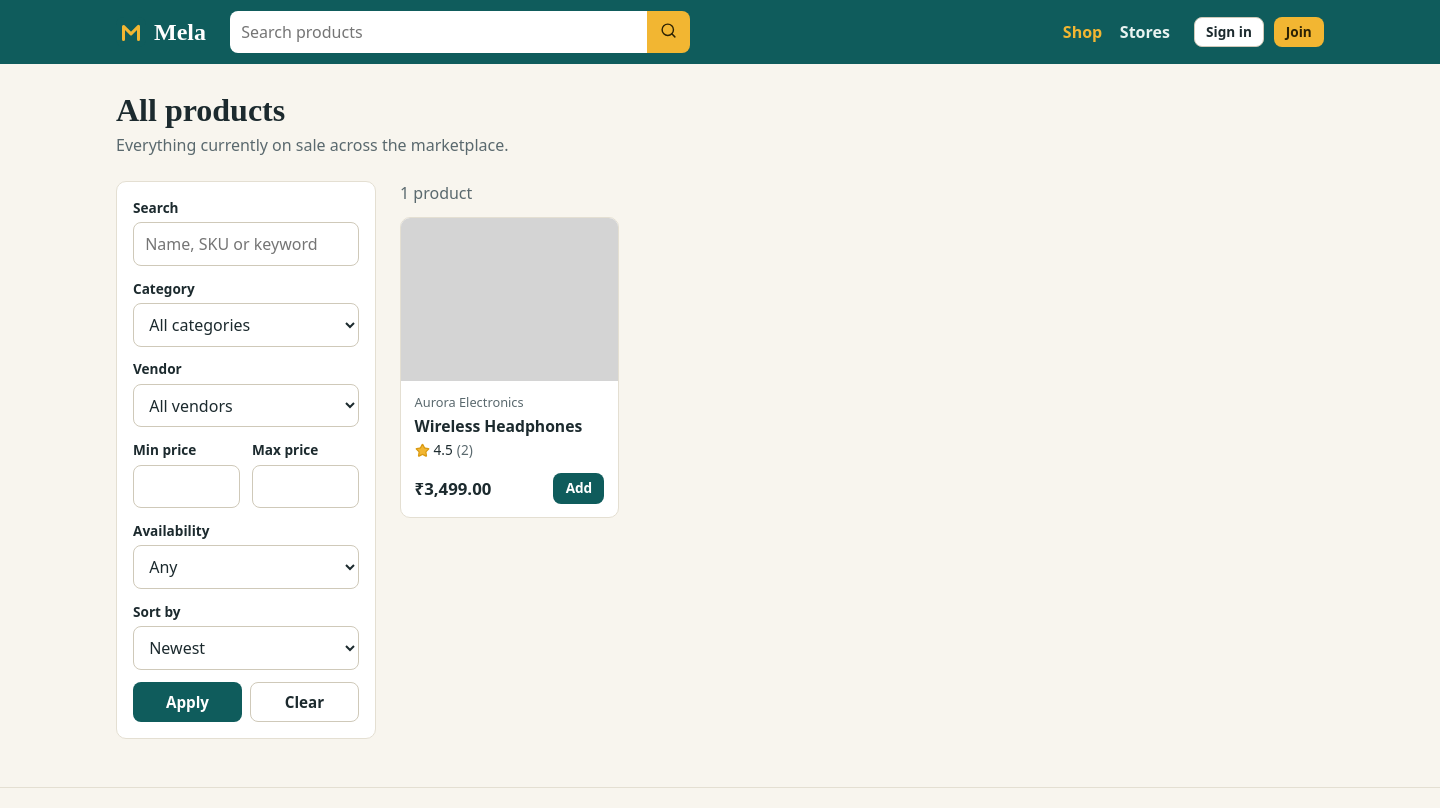
Test: product listing › sends anonymous shoppers to login when adding to cart
Expected: the link "Wireless Headphones" is shown, [415,414,582,436]
What coordinates should you click on to do the following:
click the button with aria-label "Add Wireless Headphones to cart"
I would click on:
 (579, 489)
Its box is [553,473,604,504].
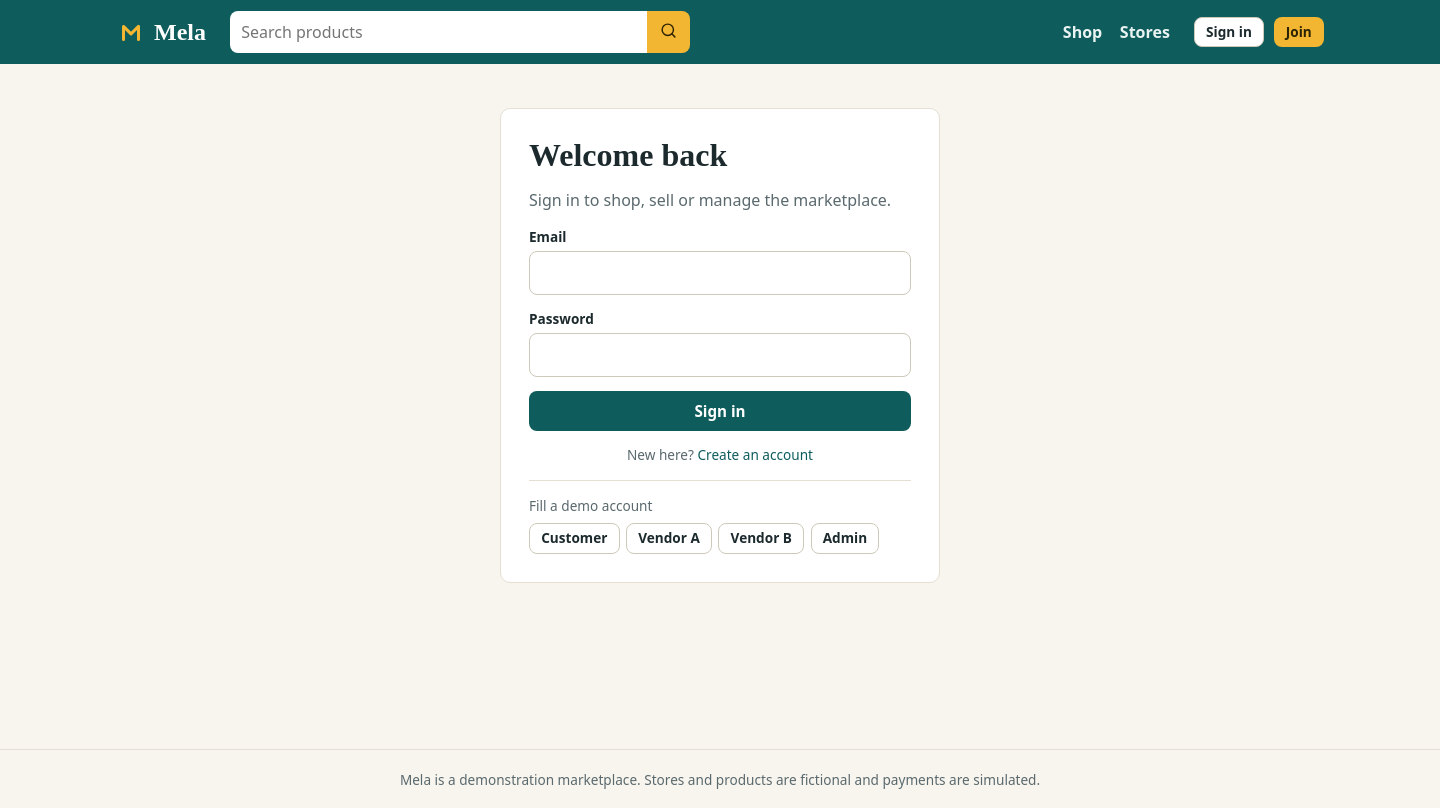
Now the heading "Welcome back" is shown, box [529,137,727,173]
